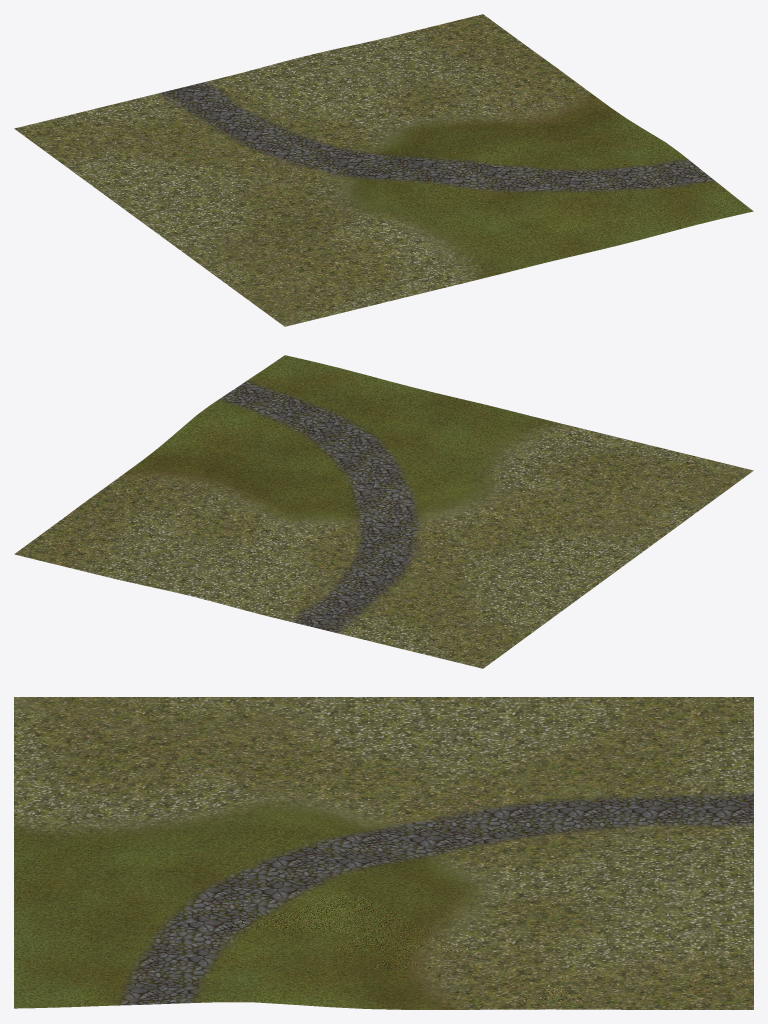
The model's file is GroundV1.glb.
3 views of the same model, one above another, from view 1: azimuth 30°, elevation 25°; view 2: azimuth 150°, elevation 25°; view 3: azimuth 270°, elevation 25° (orthographic). The views are drawn at different scales.
Parts seen in each view (by area): view 1: Plane.025; view 2: Plane.025; view 3: Plane.025.
Part boxes in pixels (x1,y1,x2,y2): Plane.025: (14, 14, 753, 326); Plane.025: (14, 355, 753, 668); Plane.025: (14, 697, 753, 1009).
Bounding box in the file's own units: 9.43 × 0.1958 × 9.43.
Materials: 1 (1 with a texture image).
